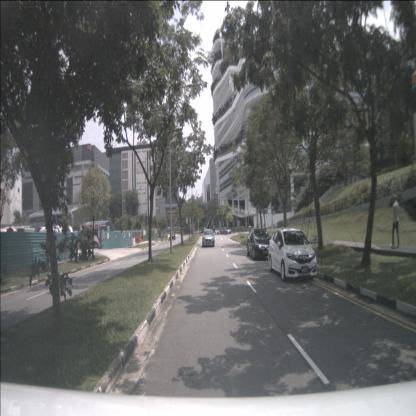barrier: (136, 238, 141, 244), (132, 238, 136, 245)
